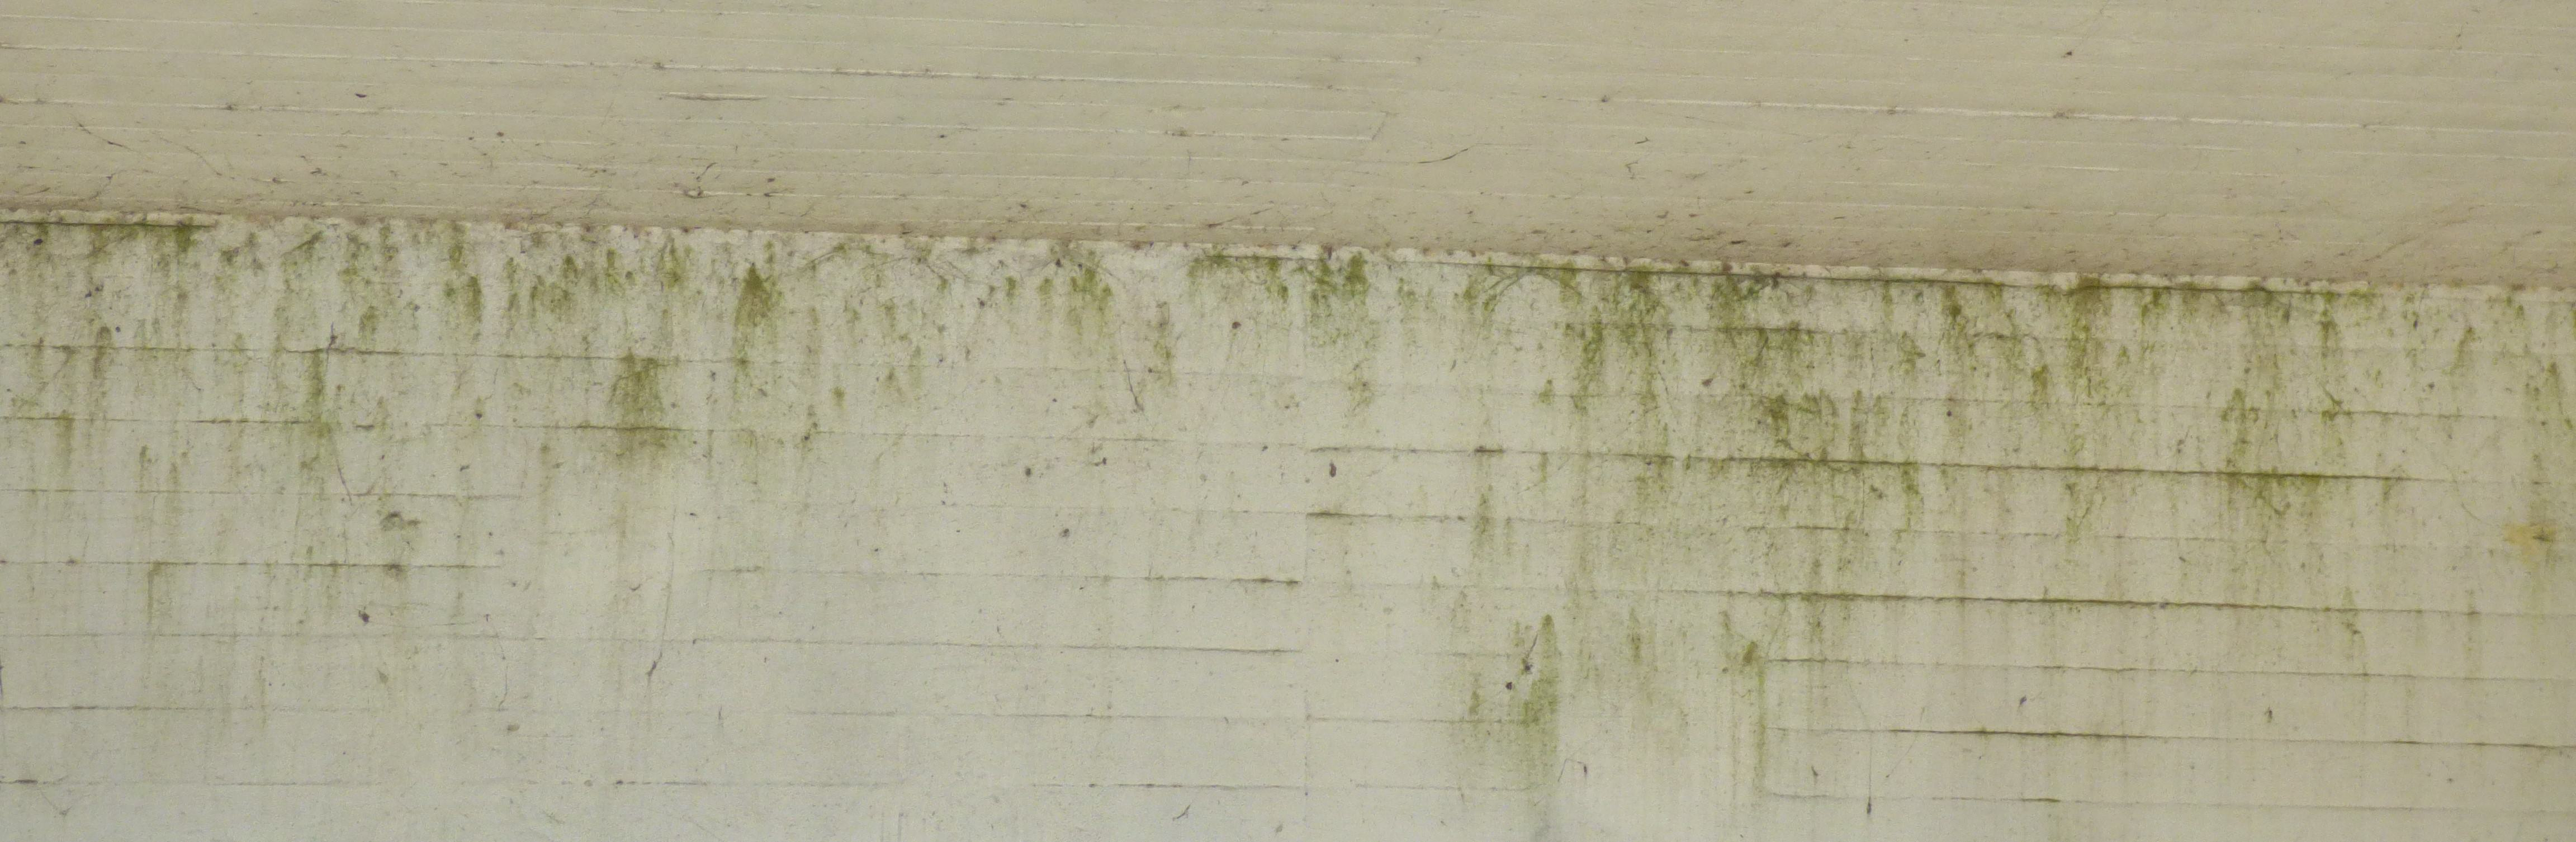Corrosion: (0, 215, 2576, 842)
